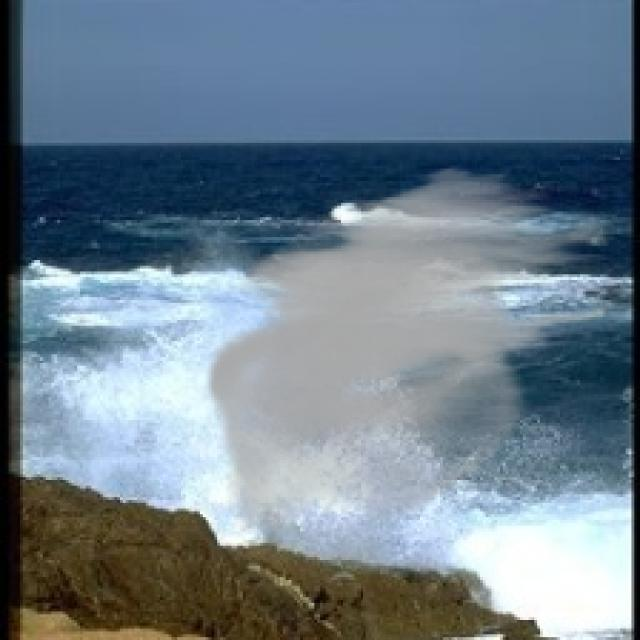smoke: (206, 163, 608, 534)
